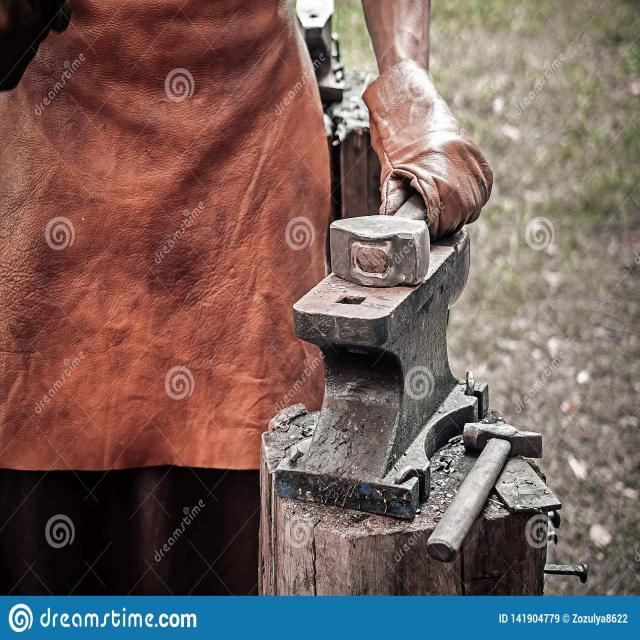hammer: (317, 177, 445, 291)
